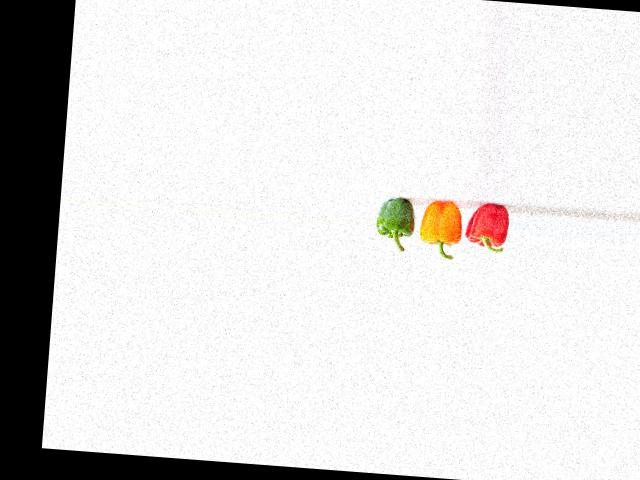bell_pepper: (463, 202, 513, 263)
